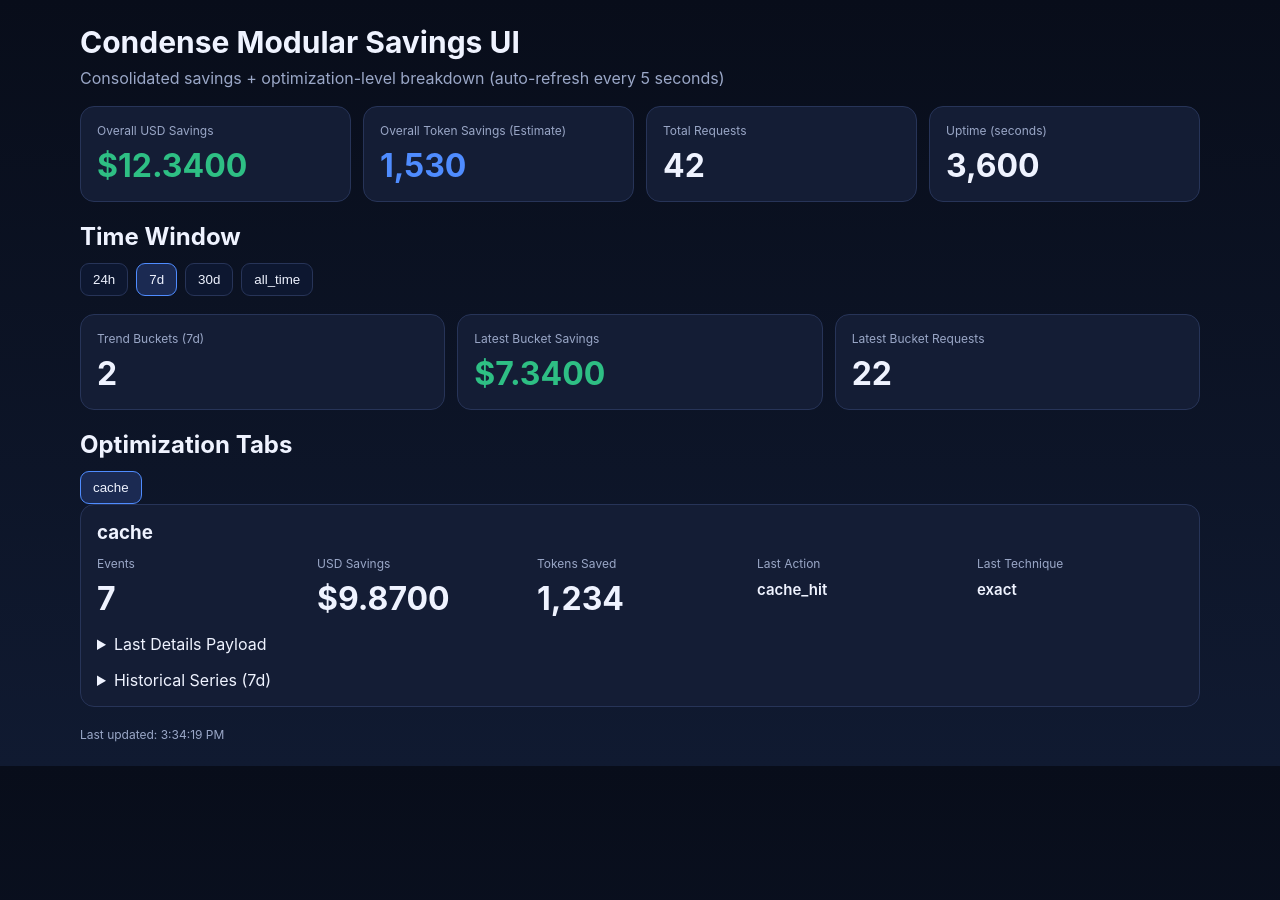
Test case: dashboard ui metrics rendering › switches window and requests matching query data
This screenshot has width=1280, height=900.
Expected: the text "$12.3400" is shown, [97,146,247,185]
Click the button "24h": click(104, 280) [80,263,128,296]
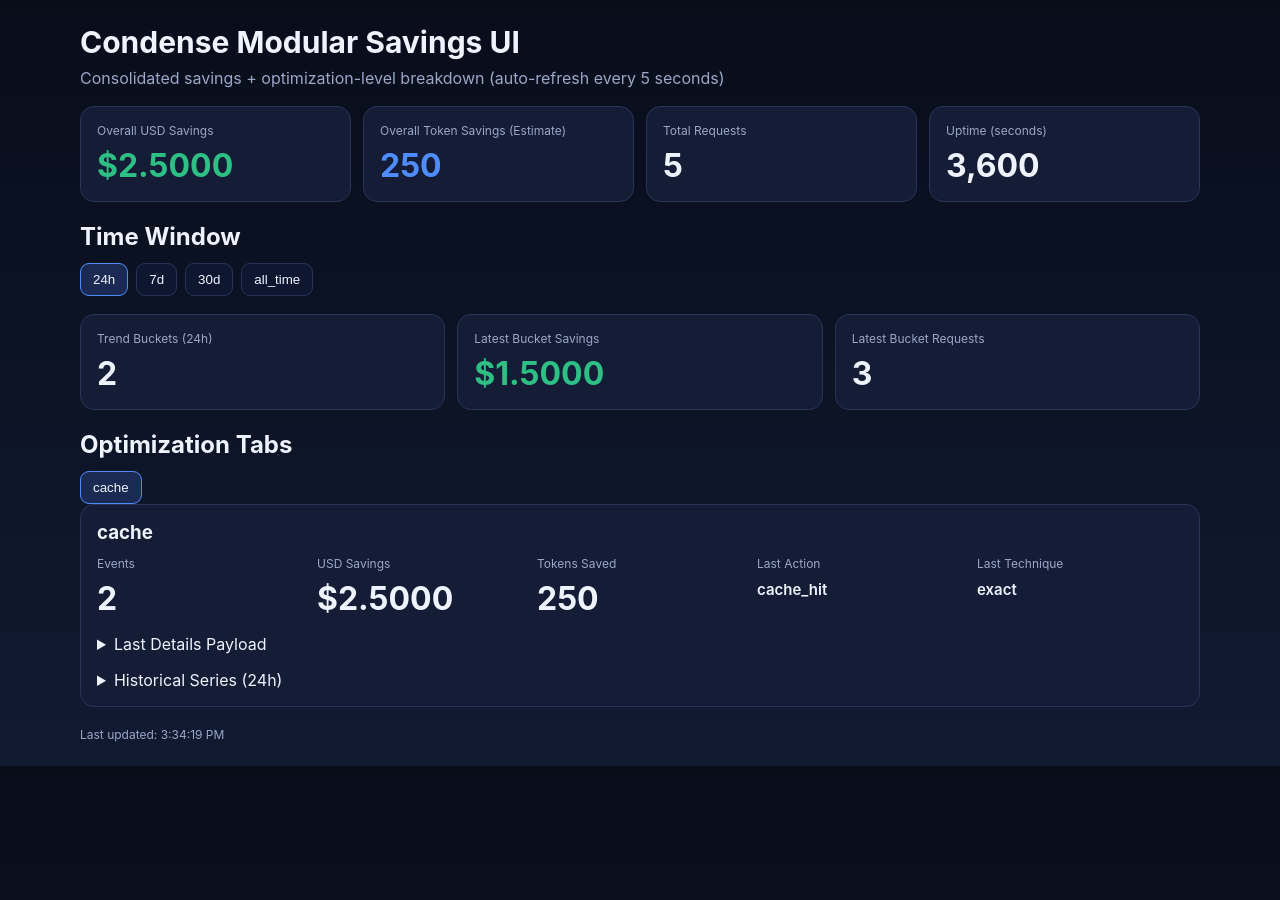
Now the text "Trend Buckets (24h)" is shown, box [97,331,213,346]
Now the text "$1.5000" is shown, box [474,354,604,393]
